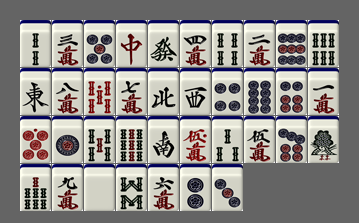0m: (180, 116, 211, 163)
0p: (20, 116, 51, 163)
0s: (84, 68, 115, 115)
1m: (308, 68, 339, 115)
1p: (52, 116, 83, 163)
1s: (308, 116, 339, 163)
1z: (20, 68, 51, 115)
2m: (244, 20, 275, 67)
2p: (180, 164, 211, 211)
2s: (20, 20, 51, 67)
2z: (148, 116, 179, 163)
3m: (52, 20, 83, 67)
3p: (212, 164, 243, 211)
3s: (212, 116, 243, 163)
3z: (180, 68, 211, 115)
4m: (180, 20, 211, 67)
4p: (212, 68, 243, 115)
4s: (212, 20, 243, 67)
4z: (148, 68, 179, 115)
5m: (244, 116, 275, 163)
5p: (84, 20, 115, 67)
5s: (84, 116, 115, 163)
5z: (84, 164, 115, 211)
6m: (148, 164, 179, 211)
6p: (276, 68, 307, 115)
6s: (308, 20, 339, 67)
6z: (148, 20, 179, 67)
7m: (116, 68, 147, 115)
7p: (276, 116, 307, 163)
7s: (20, 164, 51, 211)
7z: (116, 20, 147, 67)
8m: (52, 68, 83, 115)
8p: (244, 68, 275, 115)
8s: (116, 164, 147, 211)
9m: (52, 164, 83, 211)
9p: (276, 20, 307, 67)
9s: (116, 116, 147, 163)
